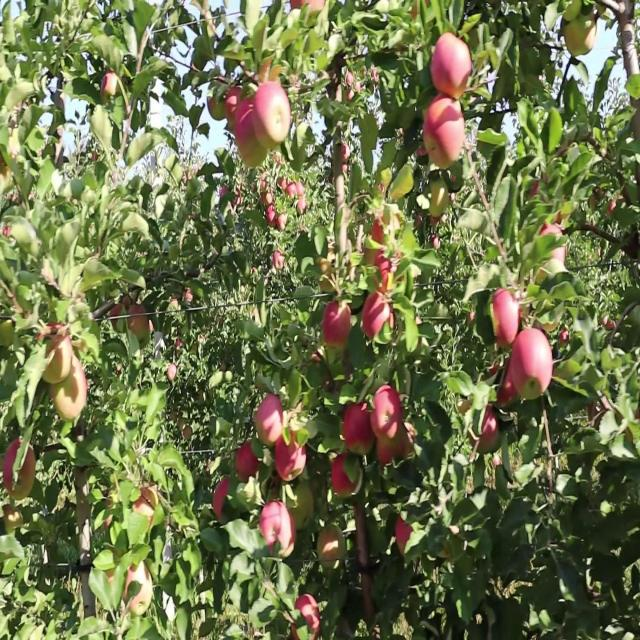apple: (424, 99, 467, 172), (512, 334, 553, 402), (432, 35, 473, 100), (232, 99, 269, 171), (256, 78, 292, 151), (52, 362, 88, 425), (4, 440, 38, 503), (260, 504, 297, 560), (40, 327, 73, 384), (372, 383, 405, 436), (564, 14, 599, 62), (492, 291, 521, 348), (276, 433, 308, 484), (364, 291, 396, 341), (124, 561, 152, 615), (324, 298, 353, 350), (344, 405, 374, 455), (256, 398, 285, 448), (488, 362, 516, 412), (332, 455, 361, 500), (540, 220, 567, 268), (292, 597, 322, 638), (428, 177, 451, 226), (376, 255, 404, 295), (132, 483, 159, 524), (236, 440, 260, 484), (292, 483, 315, 528), (496, 362, 518, 407), (236, 99, 256, 148), (480, 405, 500, 453), (212, 476, 232, 523), (372, 255, 395, 295), (396, 419, 417, 462), (320, 526, 342, 567), (316, 248, 337, 290), (240, 142, 269, 171), (360, 575, 377, 624), (376, 433, 399, 469), (256, 56, 283, 85), (372, 213, 395, 247), (396, 511, 413, 556), (225, 85, 244, 124), (208, 85, 227, 124), (128, 305, 149, 340), (100, 71, 121, 105), (588, 398, 611, 428), (344, 71, 363, 105), (616, 1, 635, 34), (508, 357, 520, 404), (4, 504, 23, 533), (112, 298, 132, 325), (624, 49, 640, 80), (112, 298, 124, 327), (632, 106, 640, 144), (168, 362, 179, 384)
